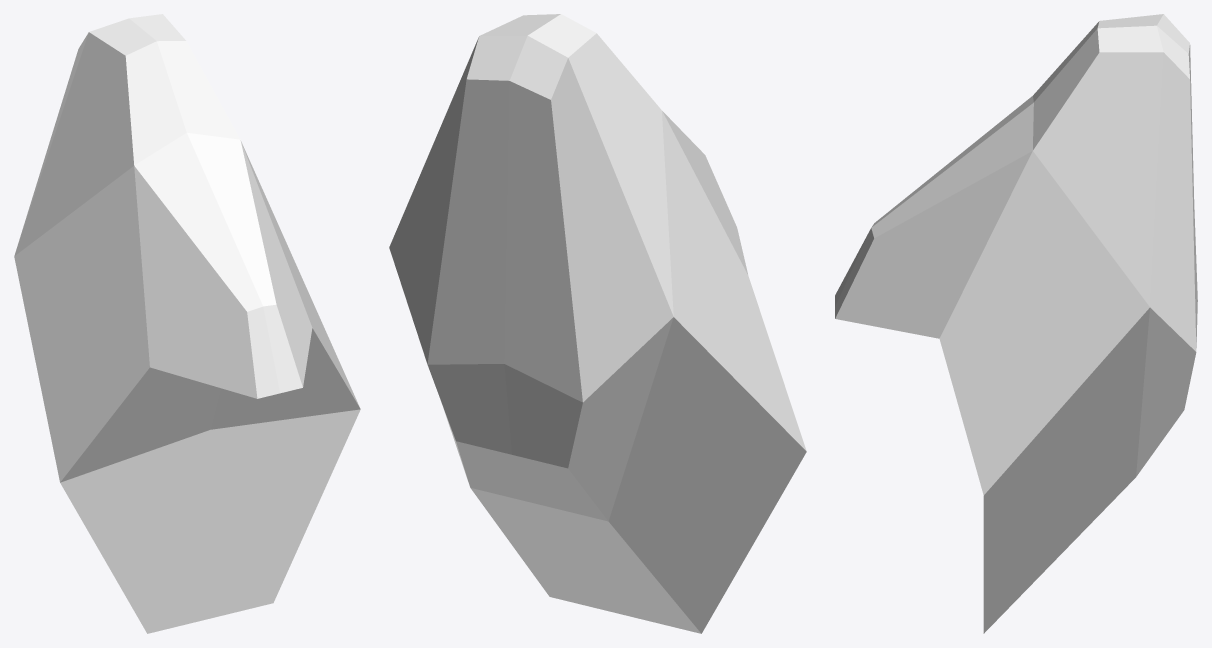
The model's file is head_7.fbx.
3 views of the same model, side by side, from view 1: azimuth 30°, elevation 25°; view 2: azimuth 150°, elevation 25°; view 3: azimuth 270°, elevation 25° (orthographic). The views are drawn at different scales.
Parts seen in each view (by area): view 1: Cube.126; view 2: Cube.126; view 3: Cube.126.
Part boxes in pixels (x1,y1,x2,y2): Cube.126: [14, 14, 360, 633]; Cube.126: [389, 14, 806, 633]; Cube.126: [835, 14, 1197, 633].
Bounding box in the file's own units: 17.69 × 30.4 × 17.37.
